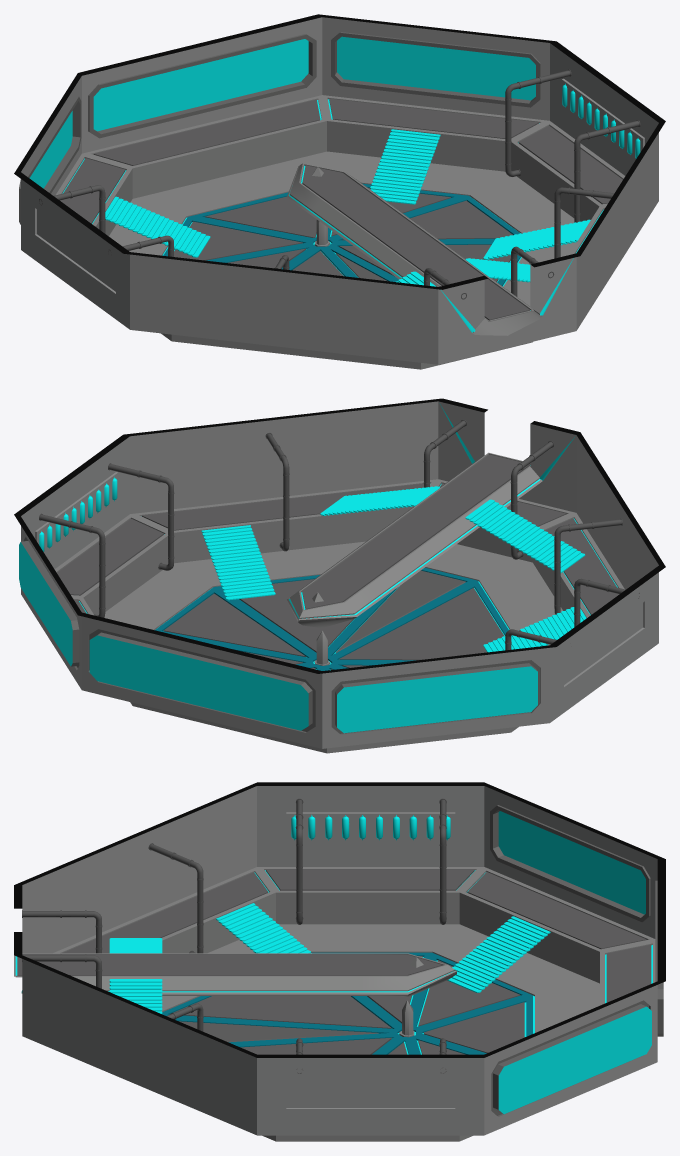
File: NavigationRoom.fbx
3 views of the same model, one above another, from view 1: azimuth 30°, elevation 25°; view 2: azimuth 150°, elevation 25°; view 3: azimuth 270°, elevation 25° (orthographic). The views are drawn at different scales.
Parts seen in each view (by area): view 1: NavigationRoom, NavigationRoomGlass, NavigationRoomStairs, NavigationRoomLights; view 2: NavigationRoom, NavigationRoomGlass, NavigationRoomStairs, NavigationRoomLights; view 3: NavigationRoom, NavigationRoomGlass, NavigationRoomStairs, NavigationRoomLights.
Boxes of the visible parts, bbox=[...] form: NavigationRoom: bbox=[14, 14, 665, 369]; NavigationRoomGlass: bbox=[29, 36, 640, 188]; NavigationRoomStairs: bbox=[105, 129, 590, 286]; NavigationRoomLights: bbox=[62, 99, 603, 332]; NavigationRoom: bbox=[14, 398, 665, 753]; NavigationRoomGlass: bbox=[19, 477, 537, 733]; NavigationRoomStairs: bbox=[201, 486, 586, 652]; NavigationRoomLights: bbox=[79, 403, 617, 670]; NavigationRoom: bbox=[14, 782, 665, 1141]; NavigationRoomGlass: bbox=[291, 811, 651, 1114]; NavigationRoomStairs: bbox=[109, 903, 550, 1013]; NavigationRoomLights: bbox=[15, 870, 652, 1054].
Bounding box in the file's own units: 3969 × 767 × 3969.
